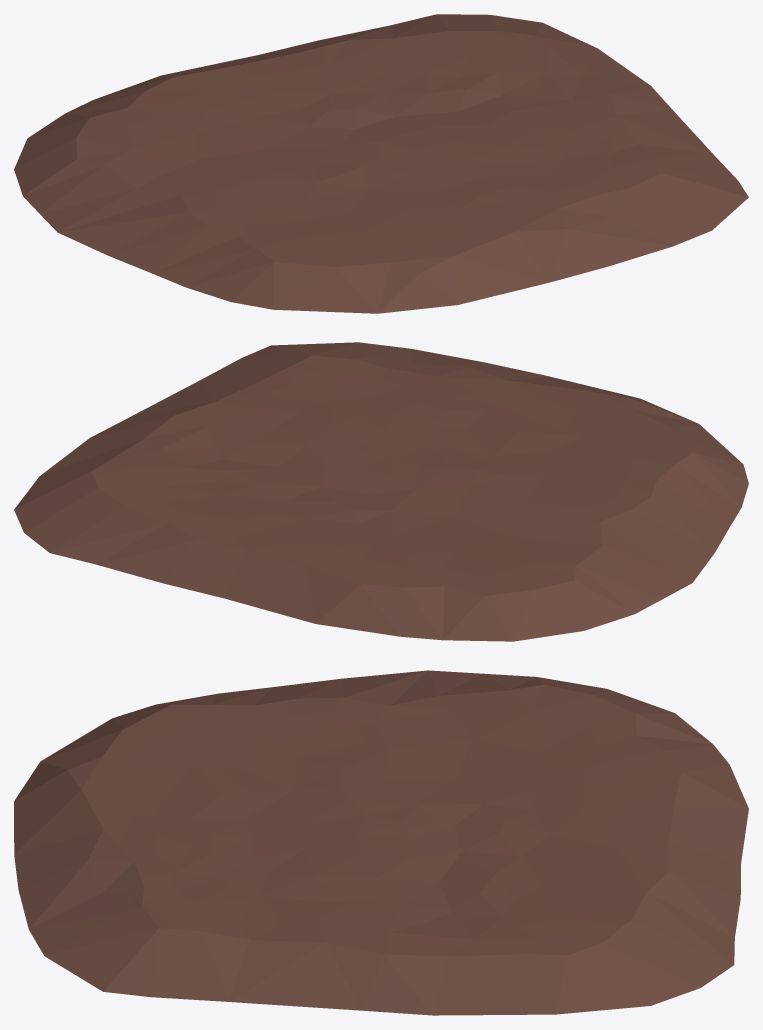
Rendered from land_008.fbx.
3 views of the same model, one above another, from view 1: azimuth 30°, elevation 25°; view 2: azimuth 150°, elevation 25°; view 3: azimuth 270°, elevation 25° (orthographic). The views are drawn at different scales.
Visible parts, largest first — view 1: land_008; view 2: land_008; view 3: land_008.
Boxes of the visible parts, x1,y1,x2,y2 form: land_008: (14,14,748,313); land_008: (14,342,748,641); land_008: (14,670,748,1015).
Size of the model in its own units: 4523 by 4071 by 178.
